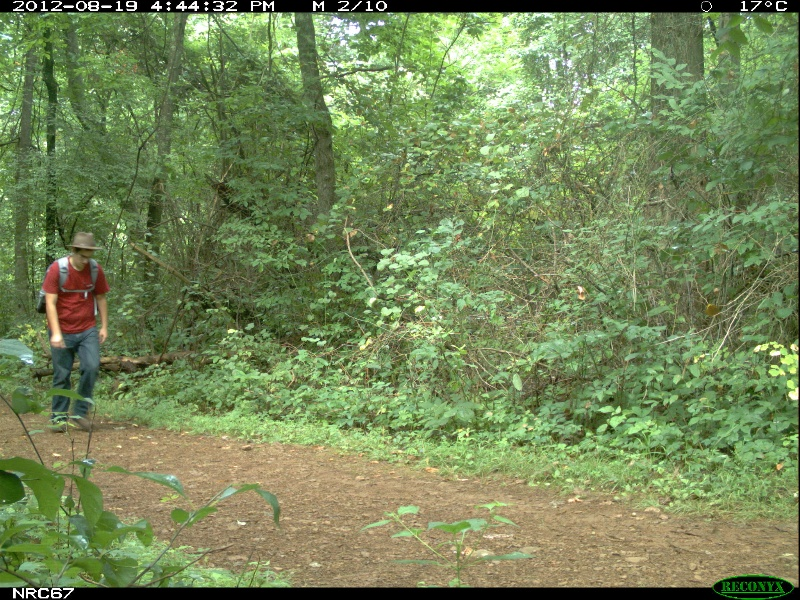human: (40, 231, 112, 434)
human face: (72, 244, 94, 269)
human legs: (49, 328, 97, 433)
